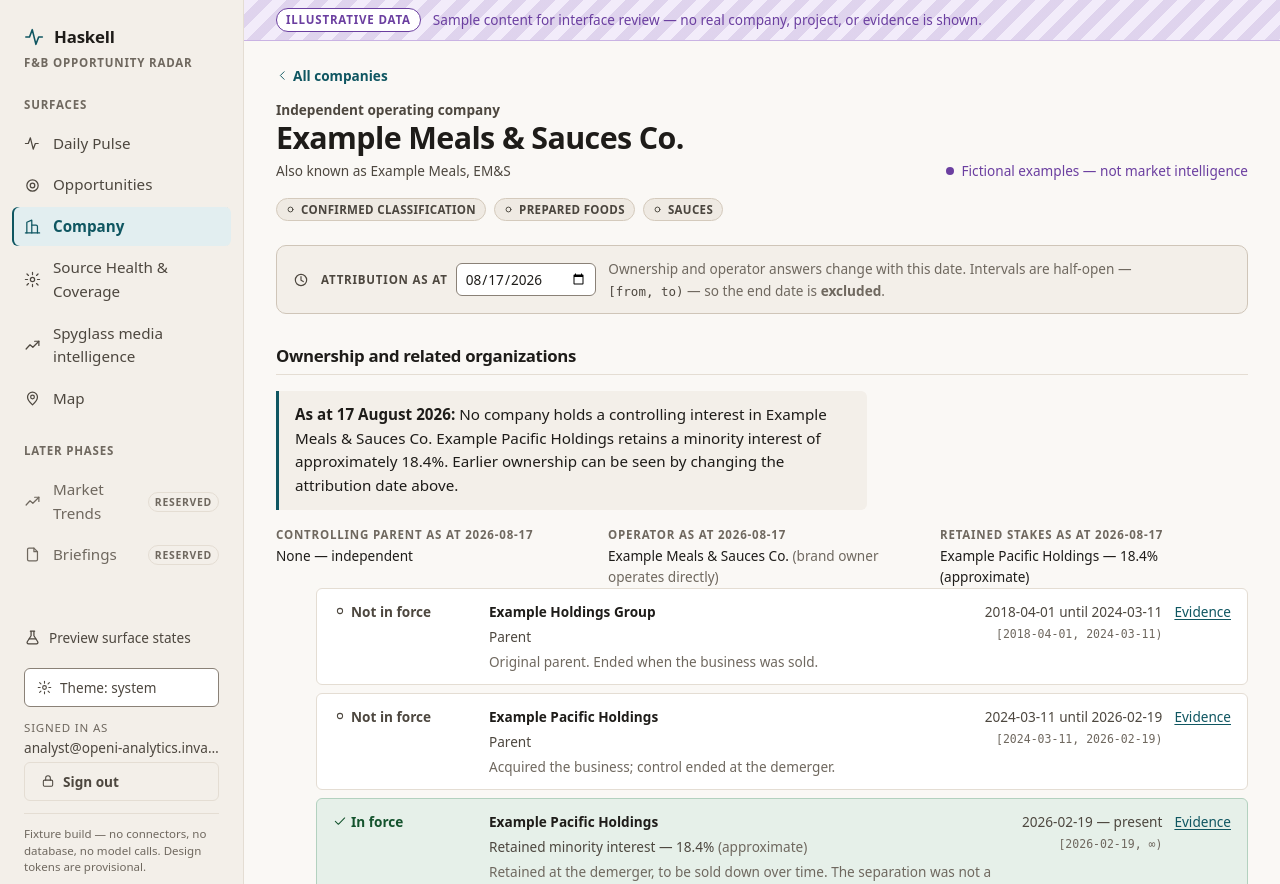
Test: company detail › writes the chosen date into the address so a shared link reproduces it
Expected: the heading "Example Meals & Sauces Co." is shown, top-left (276, 120), bottom-right (684, 156)
// A native date input takes a whole value, not keystrokes.
Type "2025-01-01" into the date field labelled "Attribution as at".
click(526, 280); type("2025-01-01")  # box top-left (456, 263), bottom-right (596, 296)
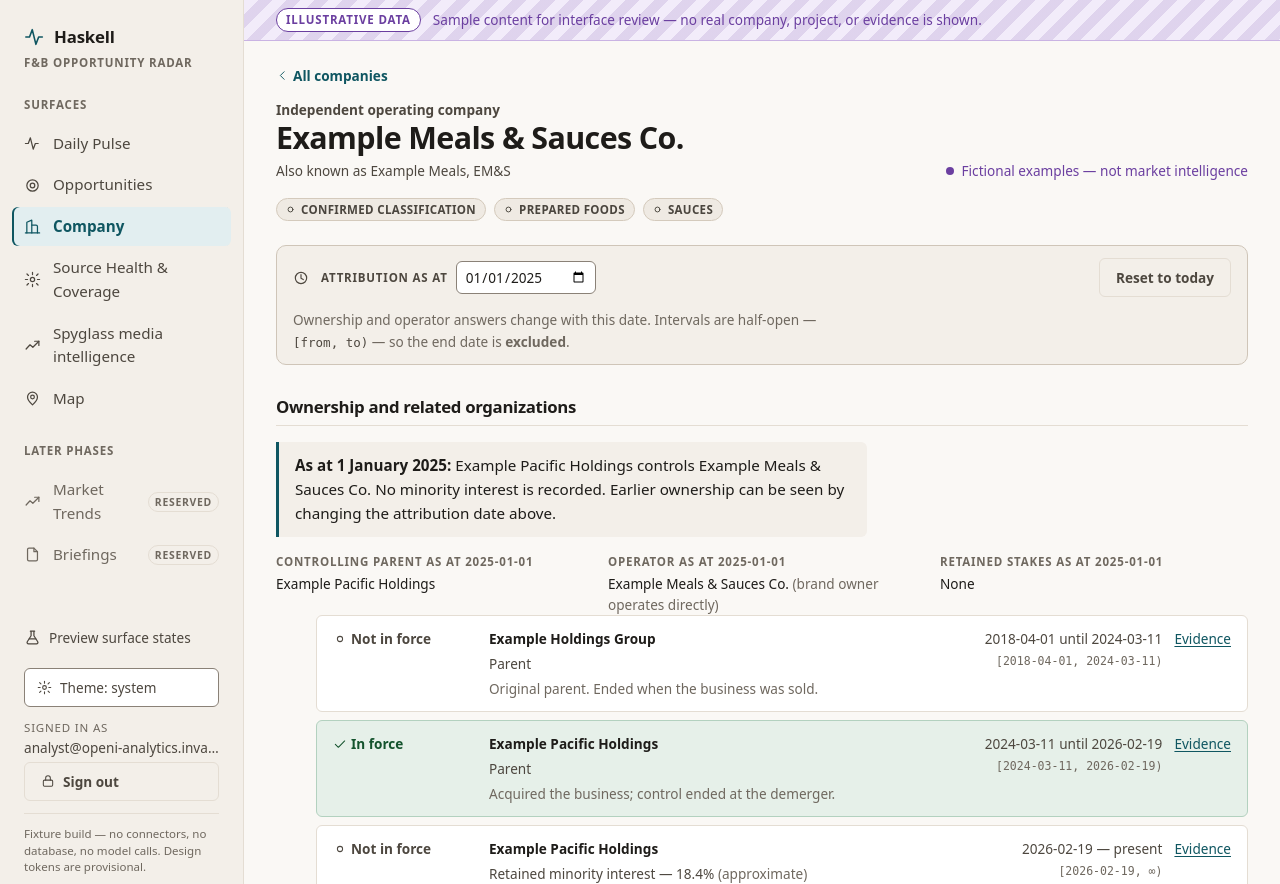
Expected: the button "Reset to today" is shown, top-left (1099, 258), bottom-right (1231, 298)
Expected: the text "Controlling parent as at 2025-01-01" is shown, top-left (276, 554), bottom-right (533, 569)
